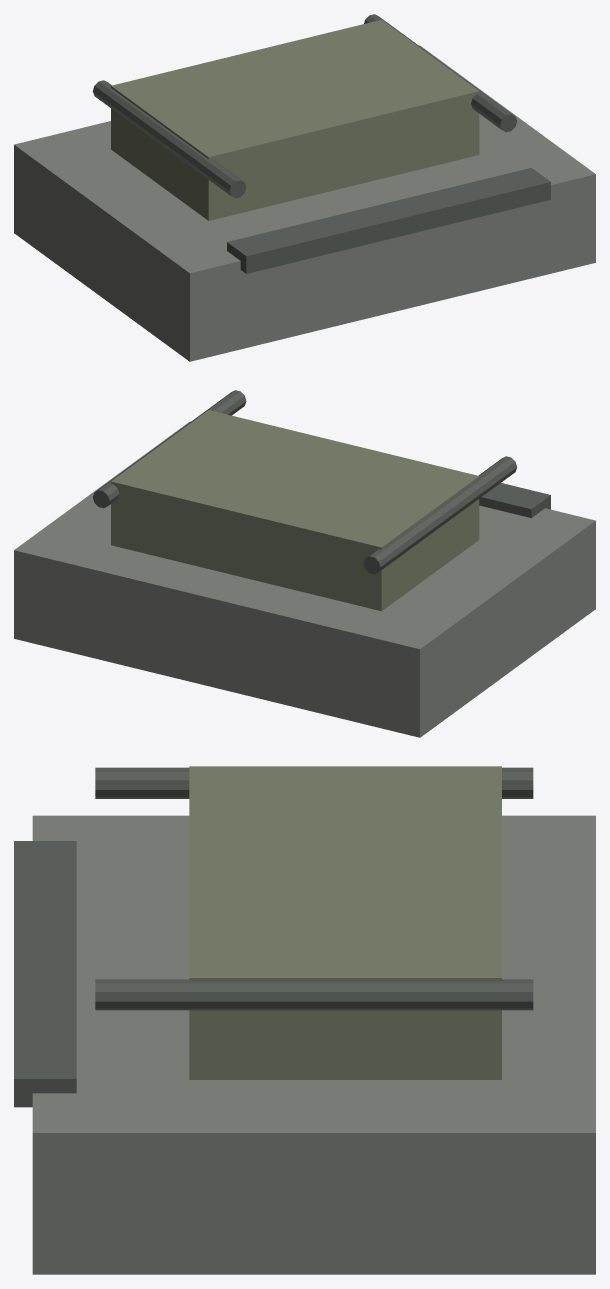
Rendered from shipyard.glb.
3 renders of one model, top to bottom at view 1: azimuth 30°, elevation 25°; view 2: azimuth 150°, elevation 25°; view 3: azimuth 270°, elevation 25°, orthographic. The views are drawn at different scales.
Visible parts, largest first — view 1: p0, p1, p2, p3, p4; view 2: p0, p1, p3, p2, p4; view 3: p0, p1, p2, p4, p3.
Boxes of the visible parts, left/top/right/bottom form: p0: left=14, top=45, right=595, bottom=361; p1: left=111, top=19, right=479, bottom=220; p2: left=227, top=168, right=550, bottom=273; p3: left=92, top=80, right=246, bottom=198; p4: left=364, top=14, right=516, bottom=132; p0: left=14, top=421, right=595, bottom=737; p1: left=111, top=410, right=479, bottom=611; p3: left=363, top=456, right=517, bottom=574; p2: left=479, top=483, right=550, bottom=517; p4: left=93, top=390, right=246, bottom=508; p0: left=32, top=815, right=595, bottom=1274; p1: left=189, top=766, right=501, bottom=1079; p2: left=14, top=841, right=76, bottom=1107; p4: left=95, top=979, right=533, bottom=1010; p3: left=95, top=767, right=533, bottom=798.
Size of the model in its own units: 12 by 4.3 by 9.3.
